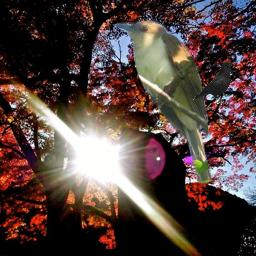Crow: (193, 61, 234, 105)
Cuckoo: (110, 18, 216, 191)
